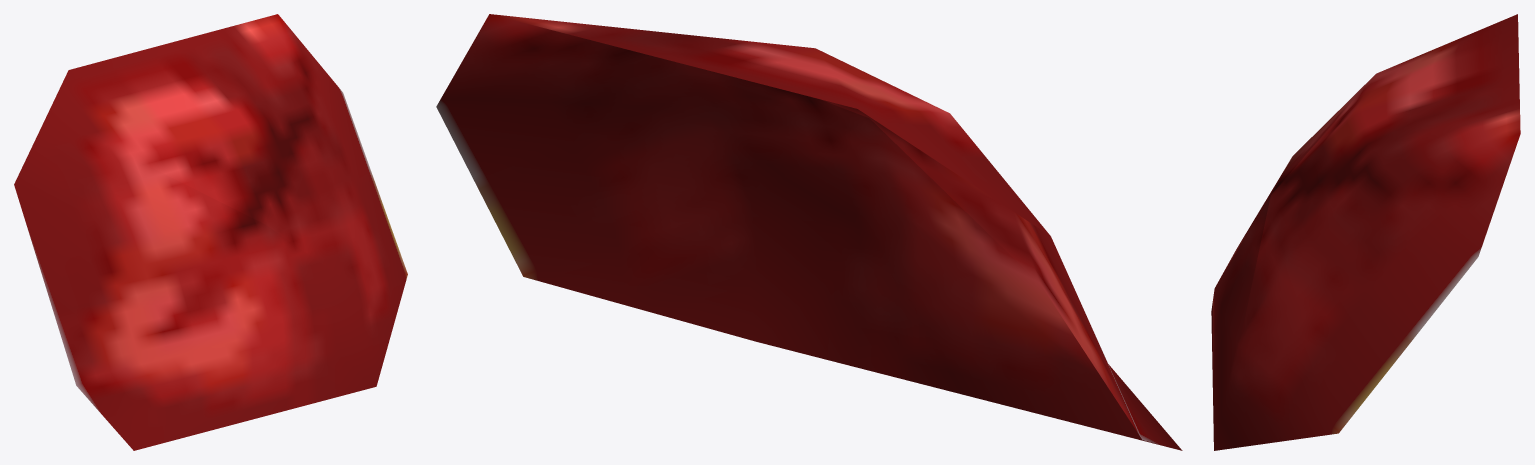
Rendered from fg_leaf_R_out.dae.
3 views of the same model, side by side, from view 1: azimuth 30°, elevation 25°; view 2: azimuth 150°, elevation 25°; view 3: azimuth 270°, elevation 25° (orthographic). The views are drawn at different scales.
Parts seen in each view (by area): view 1: fg_leaf_R_out; view 2: fg_leaf_R_out; view 3: fg_leaf_R_out.
Part boxes in pixels (x1,y1,x2,y2): fg_leaf_R_out: (14, 14, 407, 450); fg_leaf_R_out: (436, 14, 1182, 450); fg_leaf_R_out: (1211, 14, 1520, 450).
Bounding box in the file's own units: 16.32 × 12.43 × 10.3.
1 material, 1 textured.
